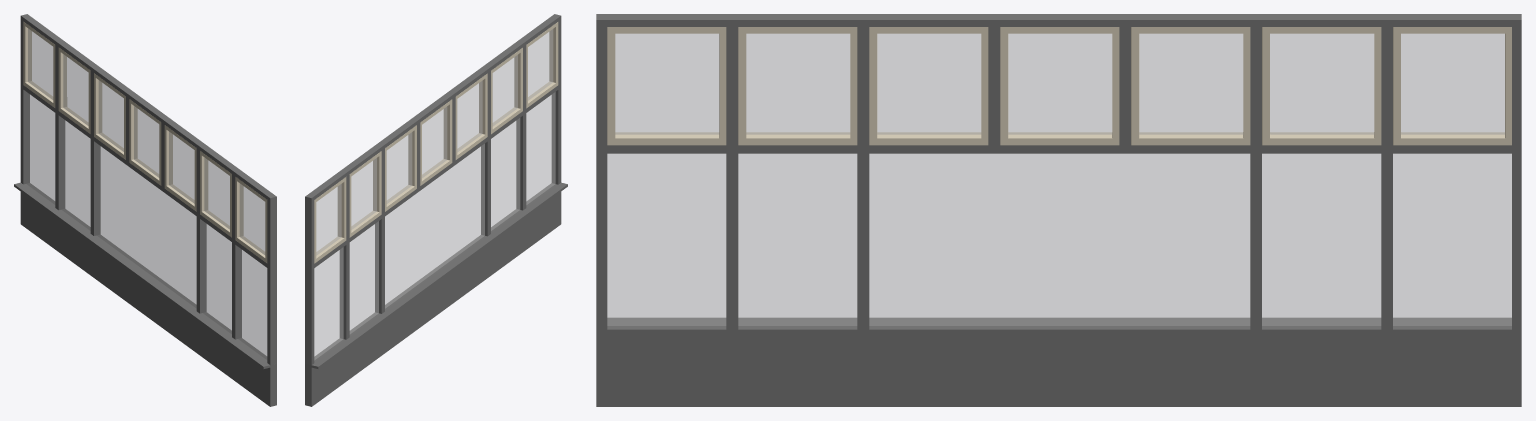
File: BigWindow.fbx
The picture shows the model from 3 angles, left to right: view 1: azimuth 30°, elevation 25°; view 2: azimuth 150°, elevation 25°; view 3: azimuth 270°, elevation 25°; orthographic projection. The views are drawn at different scales.
Parts seen in each view (by area): view 1: BigWindow; view 2: BigWindow; view 3: BigWindow.
Part boxes in pixels (x1,y1,x2,y2): BigWindow: (14,14,276,406); BigWindow: (305,14,567,406); BigWindow: (596,14,1521,406).
Bounding box in the file's own units: 20.09 × 300 × 650.
